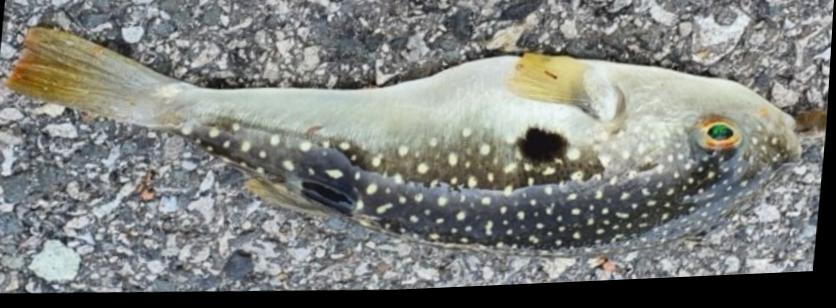fish: (10, 28, 801, 257)
